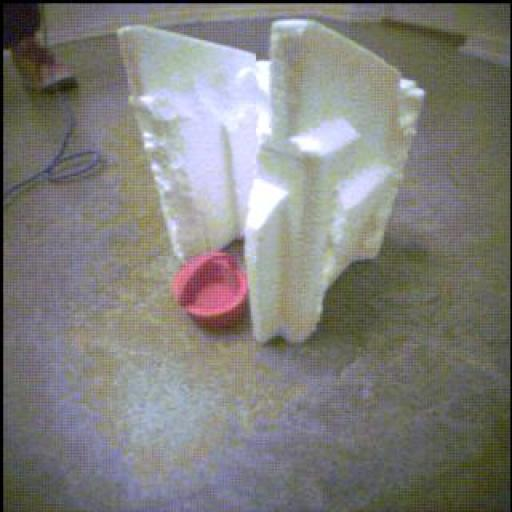Bucket: (172, 252, 249, 329)
